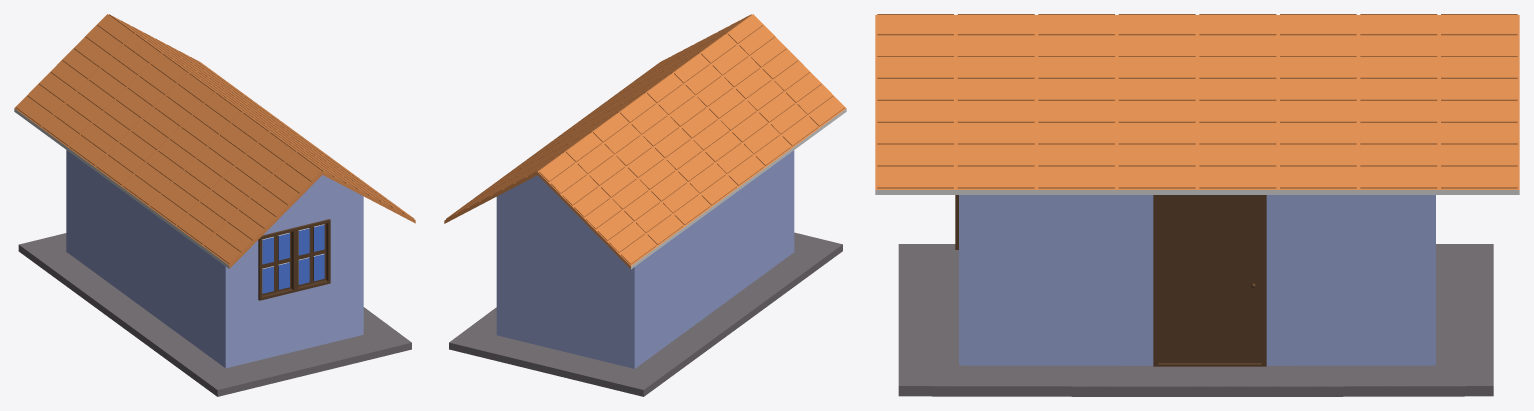
3 views of the same model, side by side, from view 1: azimuth 30°, elevation 25°; view 2: azimuth 150°, elevation 25°; view 3: azimuth 270°, elevation 25° (orthographic). The views are drawn at different scales.
Parts seen in each view (by area): view 1: Cube; view 2: Cube; view 3: Cube.
Part boxes in pixels (box(x1,y1,x2,y2)): Cube: box(14, 14, 415, 396); Cube: box(444, 14, 846, 396); Cube: box(875, 14, 1519, 396).
Bounding box in the file's own units: 2161 × 1150 × 1132.
